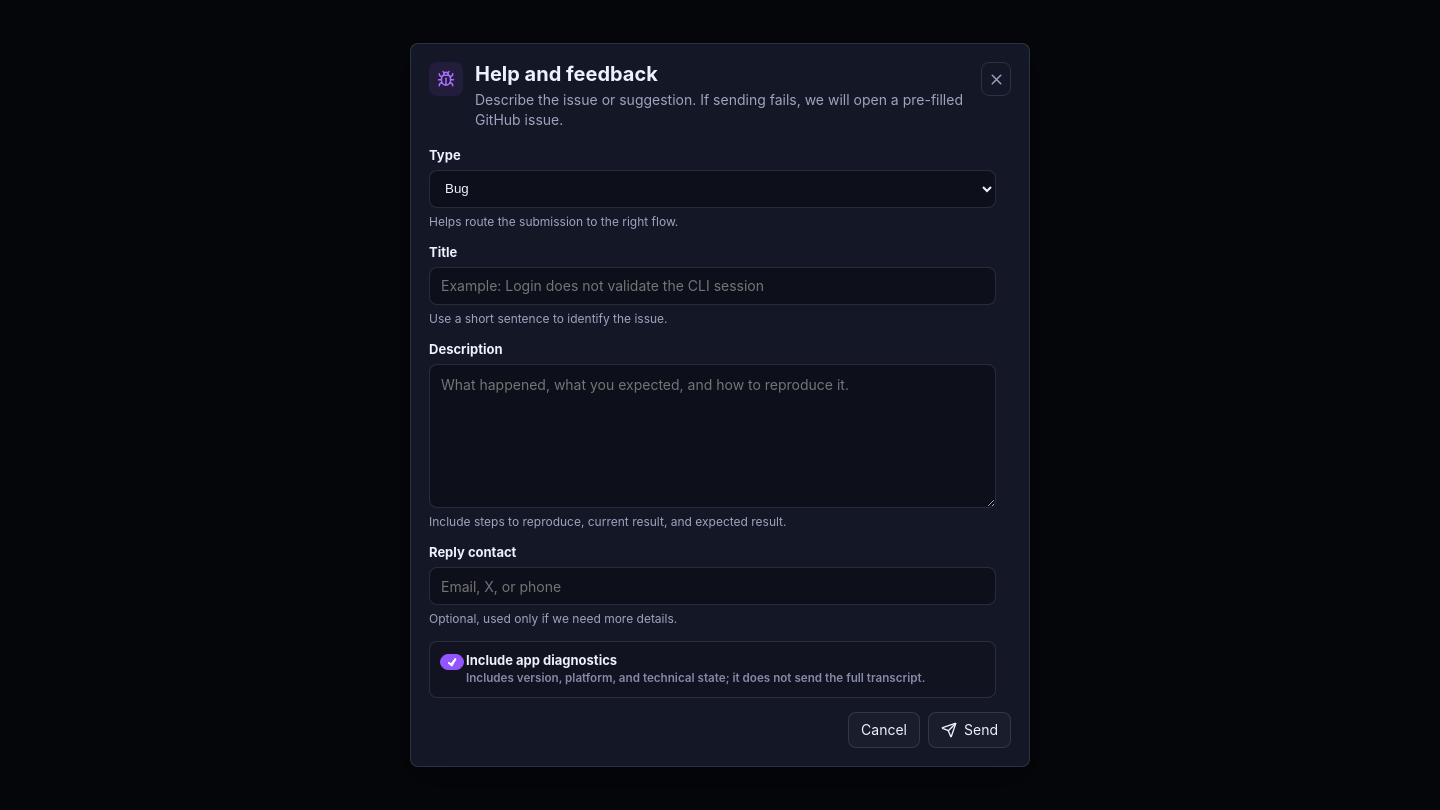
Test: FeedbackDialog — fallback to GitHub issue (code-driven, provider-neutral) › en-US: supabase_failed + error renders provider-neutral fallback and warning
Type "Something broke" into the field labelled "Title" at (712, 286), box [429, 267, 996, 305]
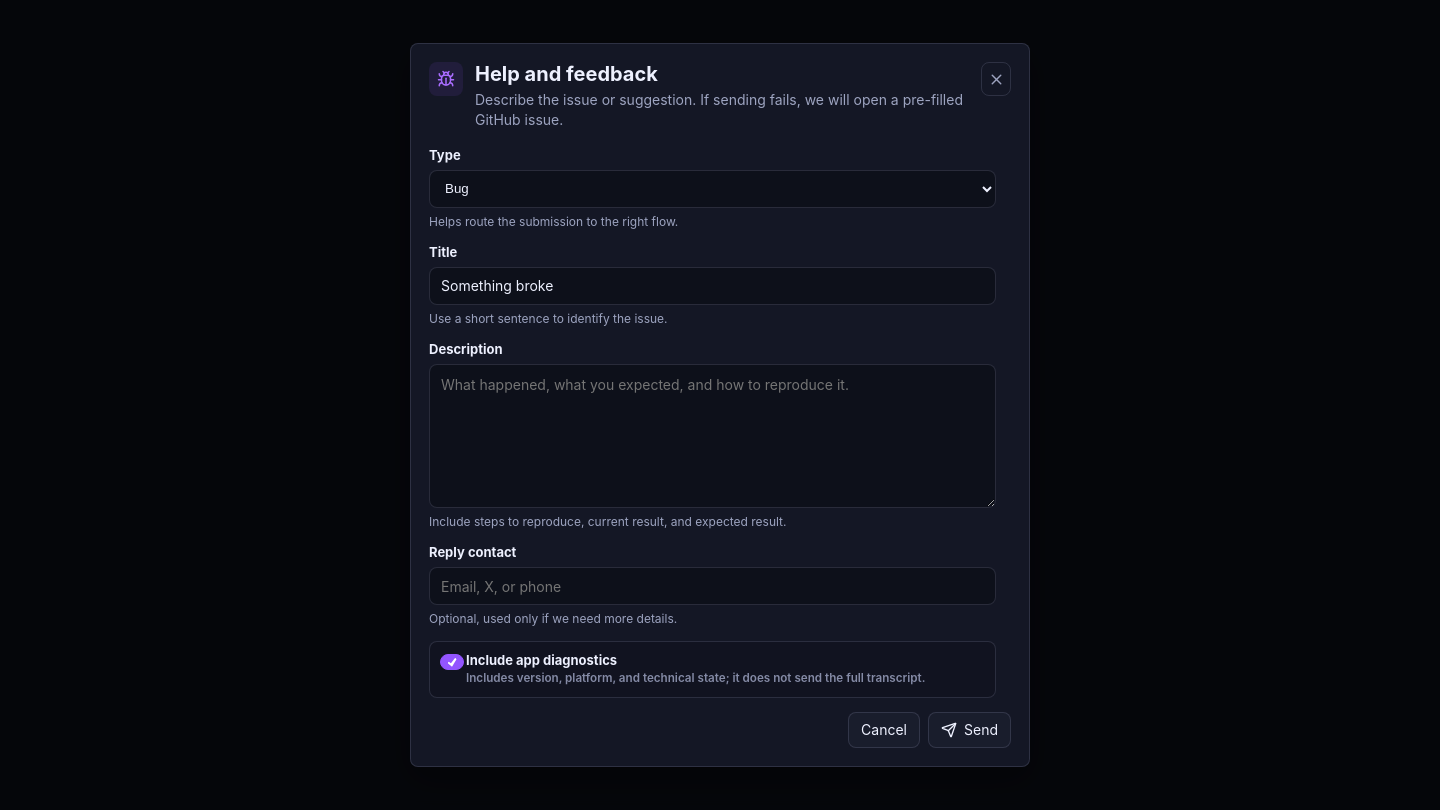
Type "It failed in a reproducible way" into the text box labelled "Description" at (712, 436), box [429, 364, 996, 508]
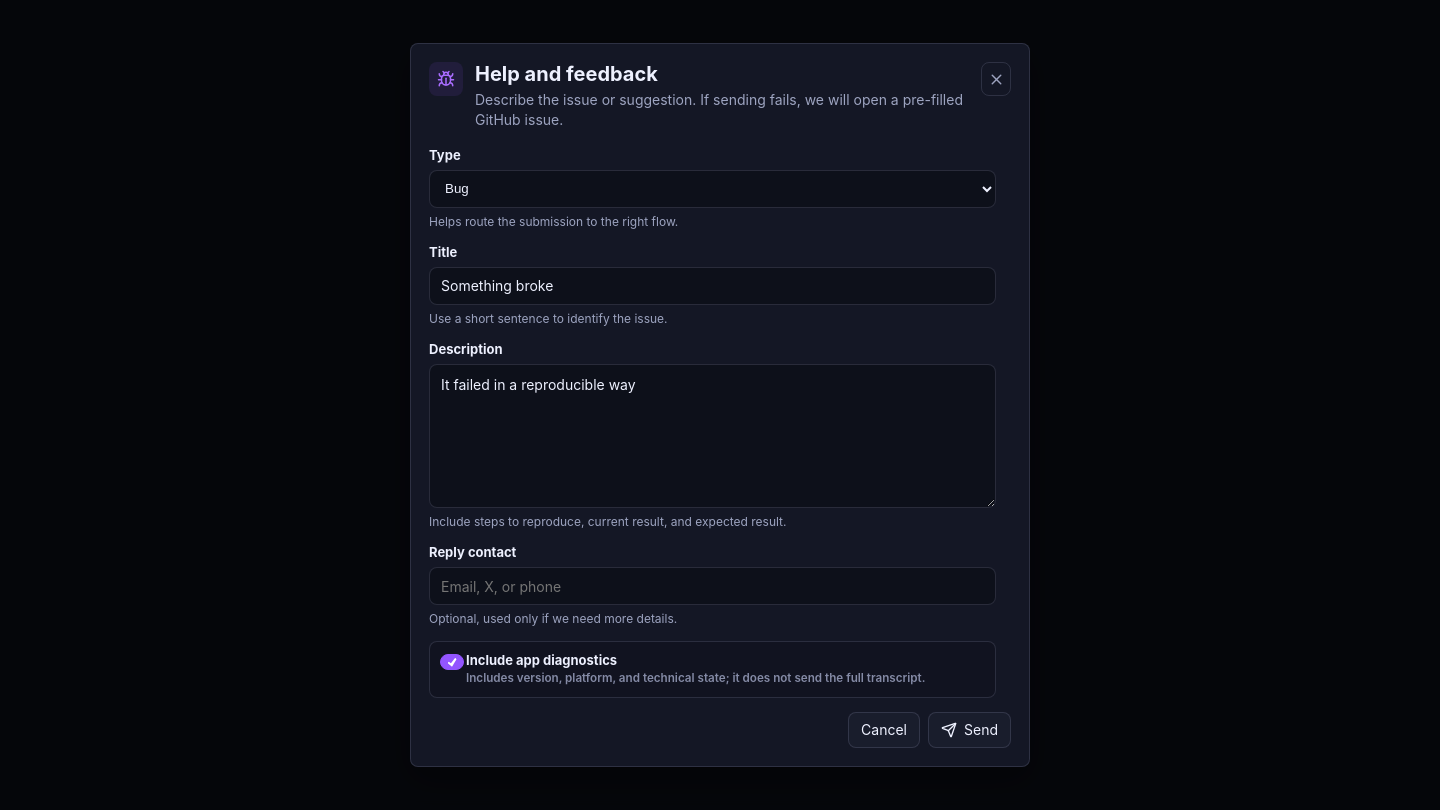
Click the button "Send" at (970, 730), box [928, 712, 1011, 748]
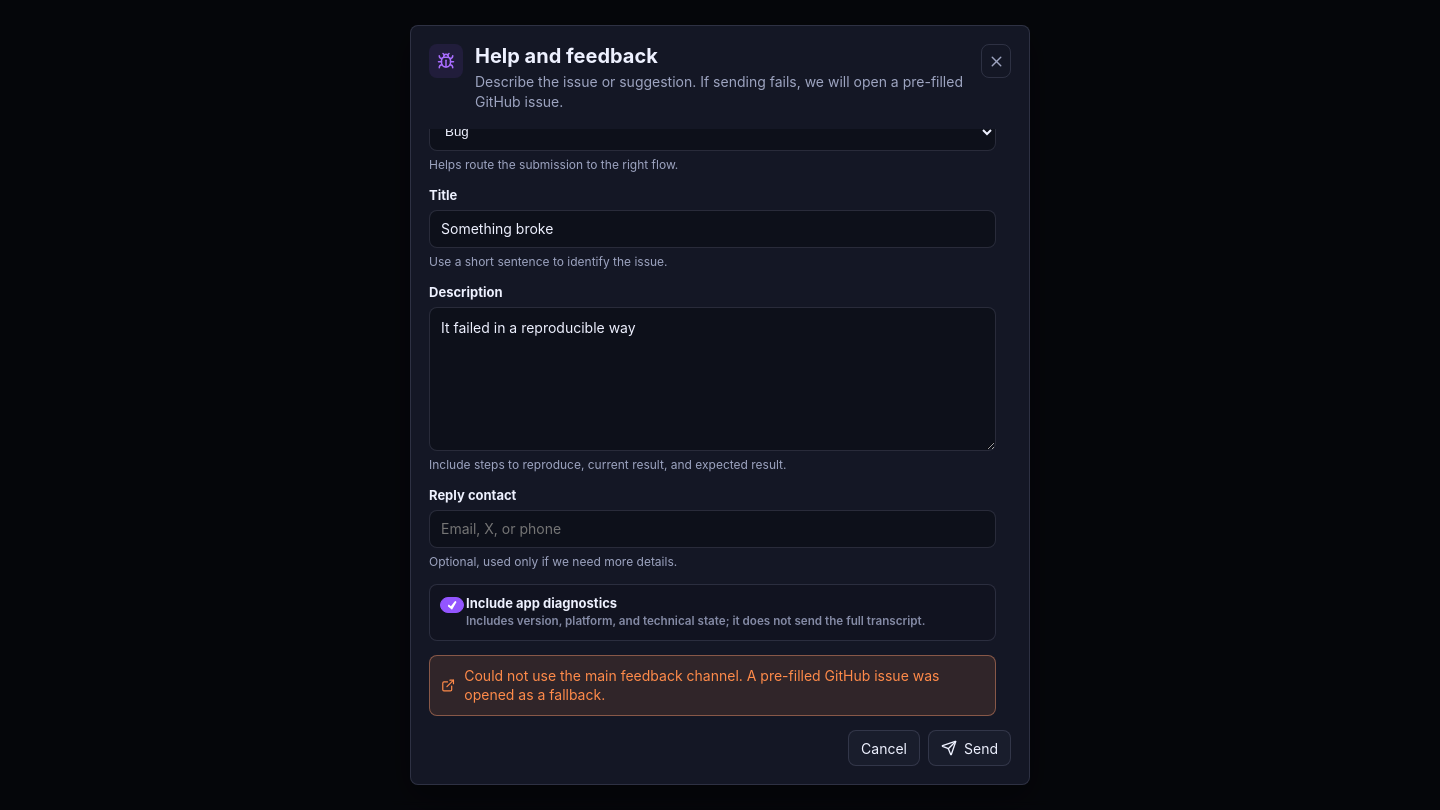
Now the text "Could not use the main feedback channel. A pre-filled GitHub issue was opened as a fallback" is shown, box [464, 667, 940, 704]
